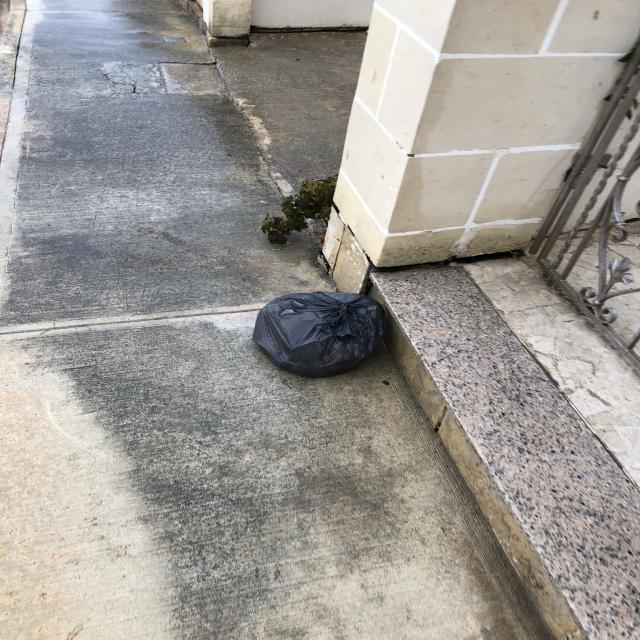Mixed Waste -Black Bag-: (254, 293, 388, 379)
